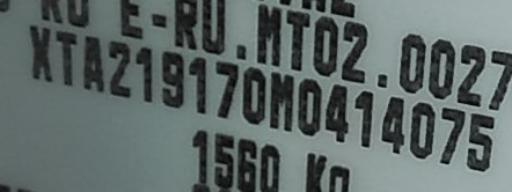letter: (464, 110, 496, 173), (322, 79, 352, 145), (407, 97, 437, 160), (210, 60, 240, 122), (437, 104, 467, 165), (377, 94, 407, 153), (241, 62, 267, 128), (26, 22, 54, 83), (159, 48, 187, 108), (268, 68, 294, 132), (296, 75, 322, 139), (106, 38, 132, 100), (53, 28, 79, 89), (80, 33, 106, 94), (352, 85, 374, 150), (186, 53, 208, 117), (133, 43, 155, 106)
